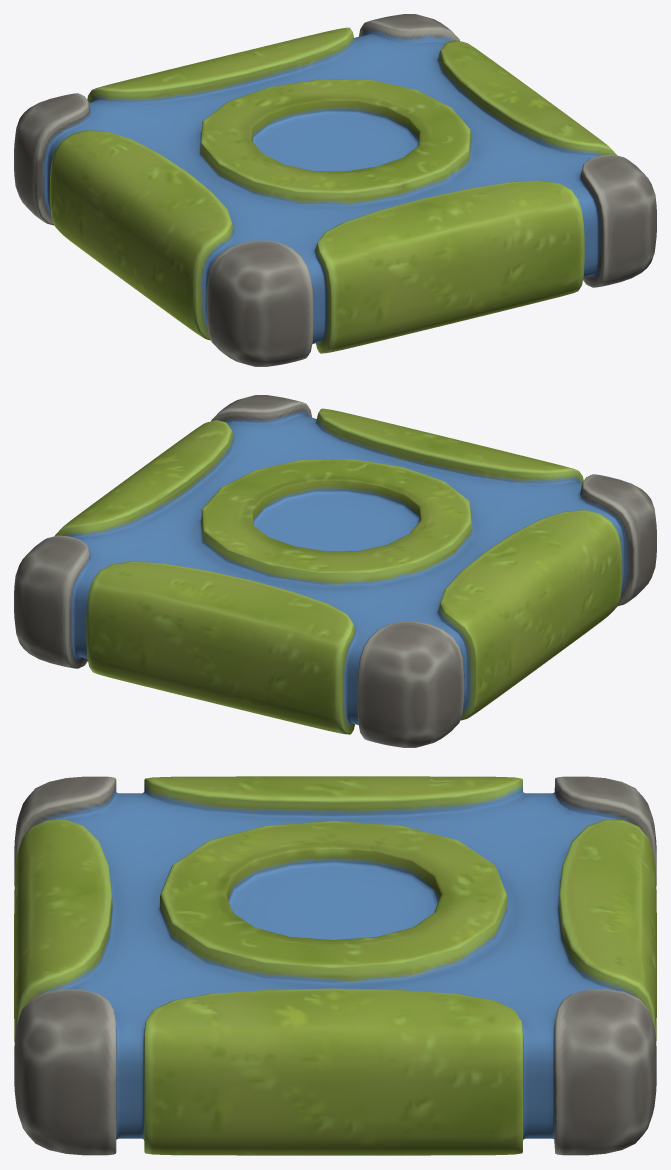
The model's file is arena block 4.fbx.
The picture shows the model from 3 angles, top to bottom: view 1: azimuth 30°, elevation 25°; view 2: azimuth 150°, elevation 25°; view 3: azimuth 270°, elevation 25°; orthographic projection. The views are drawn at different scales.
Parts seen in each view (by area): view 1: arena block 4 lp; view 2: arena block 4 lp; view 3: arena block 4 lp.
Boxes of the visible parts, <box> form: arena block 4 lp: <box>14,14,656,366</box>; arena block 4 lp: <box>14,395,656,747</box>; arena block 4 lp: <box>14,776,656,1155</box>.
Size of the model in its own units: 200 by 49.82 by 200.
